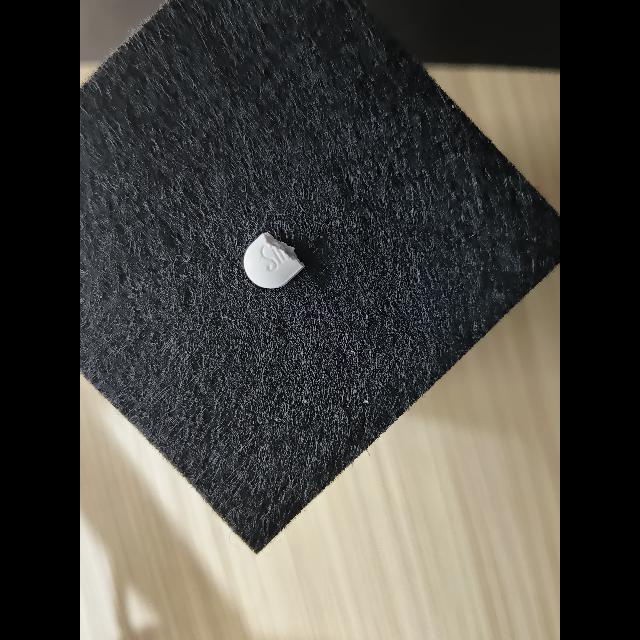Chipped Pill: (243, 232, 305, 289)
